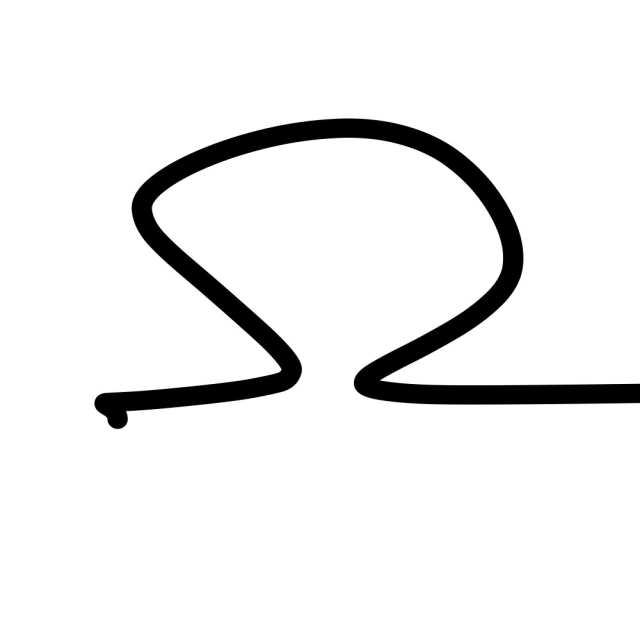ohms: (81, 105, 582, 497)
